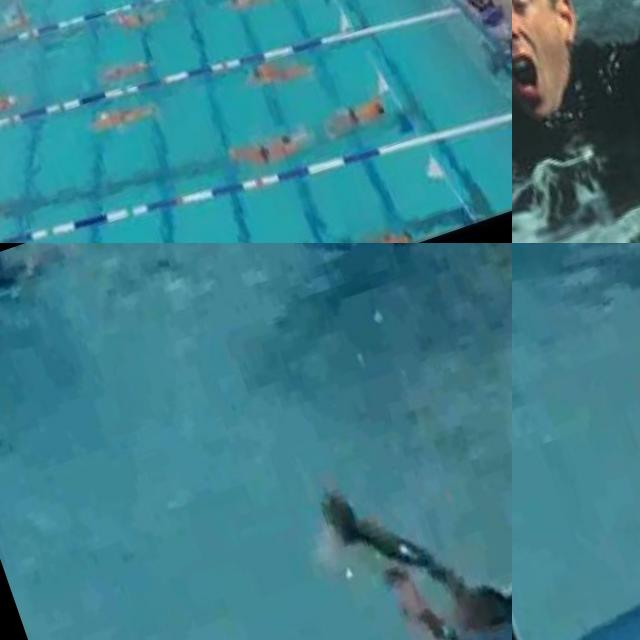drowning: (281, 408, 512, 640), (512, 0, 640, 243)
swimming: (512, 478, 588, 640), (223, 119, 301, 174), (242, 44, 310, 96), (83, 92, 152, 140), (320, 87, 384, 136), (326, 214, 410, 243), (99, 49, 148, 90), (112, 0, 162, 39), (0, 0, 41, 40), (222, 0, 271, 15), (0, 86, 18, 126)
